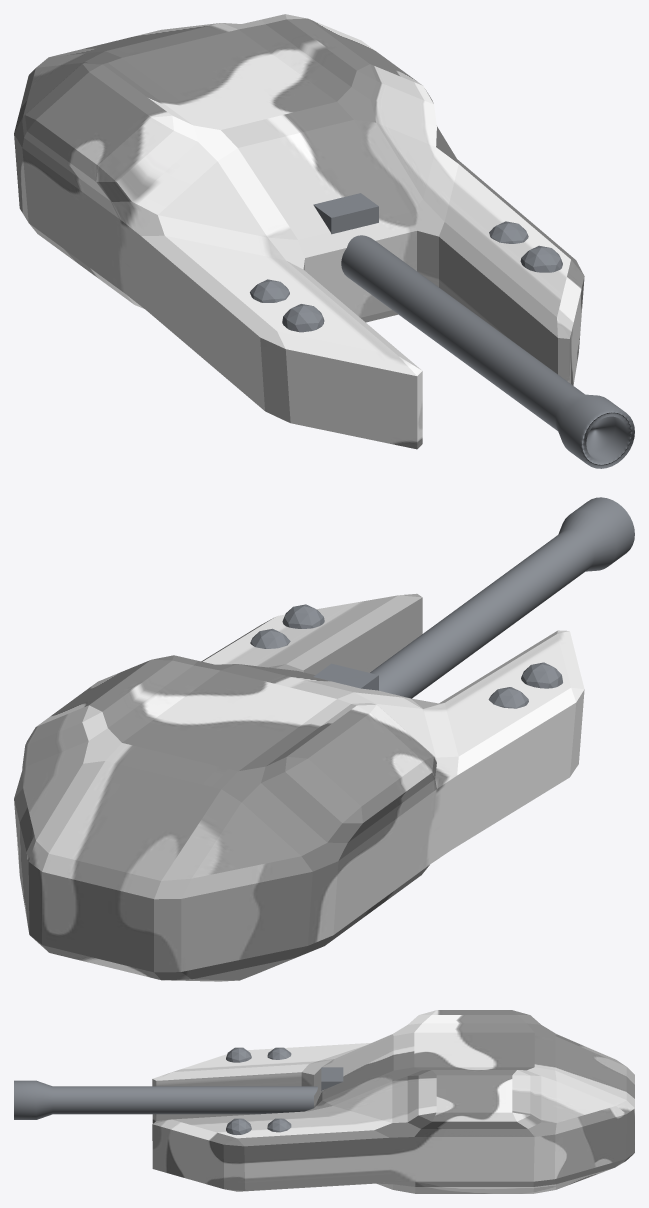
File: sniper.glb
3 renders of one model, top to bottom at view 1: azimuth 30°, elevation 25°; view 2: azimuth 150°, elevation 25°; view 3: azimuth 270°, elevation 25°, orthographic. The views are drawn at different scales.
Visible parts, largest first — view 1: Cube, Cylinder.001, Cube.001, Icosphere.003, Icosphere.002, Icosphere, Icosphere.001; view 2: Cube, Cylinder.001, Cube.001, Icosphere.003, Icosphere.002; view 3: Cube, Cylinder.001, Cube.001, Icosphere.002, Icosphere.003, Icosphere.001.
Part boxes in pixels (x1=…): Cube: x1=14, y1=14, x2=584, y2=449; Cylinder.001: x1=341, y1=235, x2=634, y2=468; Cube.001: x1=313, y1=193, x2=378, y2=234; Icosphere.003: x1=282, y1=304, x2=324, y2=332; Icosphere.002: x1=520, y1=245, x2=562, y2=272; Icosphere: x1=250, y1=279, x2=289, y2=302; Icosphere.001: x1=489, y1=221, x2=528, y2=243; Cube: x1=14, y1=593, x2=584, y2=981; Cylinder.001: x1=370, y1=497, x2=634, y2=698; Cube.001: x1=313, y1=663, x2=378, y2=690; Icosphere.003: x1=521, y1=662, x2=562, y2=688; Icosphere.002: x1=282, y1=604, x2=324, y2=628; Cube: x1=152, y1=1010, x2=634, y2=1193; Cylinder.001: x1=14, y1=1080, x2=317, y2=1119; Cube.001: x1=321, y1=1067, x2=343, y2=1090; Icosphere.002: x1=226, y1=1118, x2=251, y2=1134; Icosphere.003: x1=226, y1=1047, x2=251, y2=1062; Icosphere.001: x1=267, y1=1118, x2=291, y2=1132.
Bounding box in the file's own units: 4.24 × 2.61 × 11.11.
Materials: 2 (1 with a texture image).
